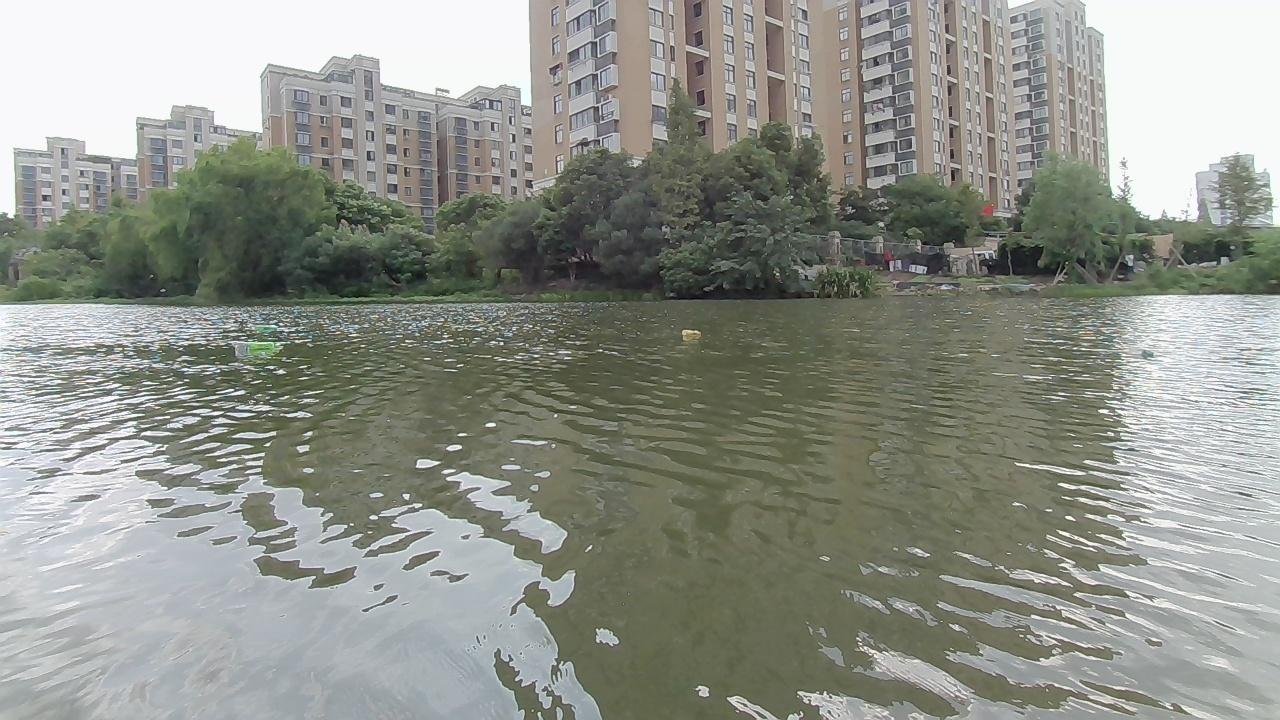bottle: (230, 338, 282, 355), (671, 323, 705, 342), (1128, 342, 1160, 362), (254, 319, 285, 336)
